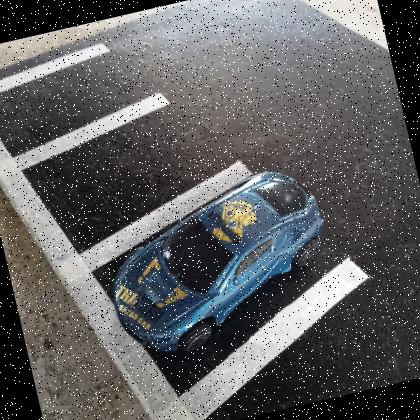Car: (112, 171, 325, 356)
